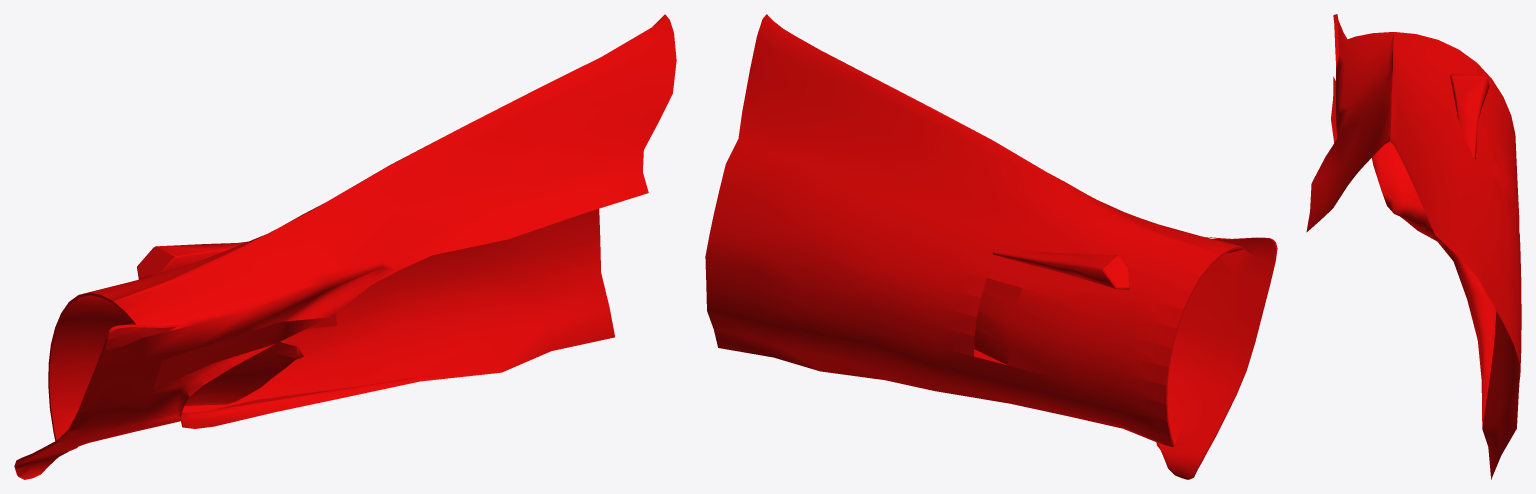
Rendered from rafale_highlight_06.fbx.
3 renders of one model, left to right at view 1: azimuth 30°, elevation 25°; view 2: azimuth 150°, elevation 25°; view 3: azimuth 270°, elevation 25°, orthographic. The views are drawn at different scales.
Parts seen in each view (by area): view 1: rafale_highlight_06; view 2: rafale_highlight_06; view 3: rafale_highlight_06.
Part boxes in pixels (left/top/right/bottom): rafale_highlight_06: left=14, top=14, right=676, bottom=479; rafale_highlight_06: left=705, top=14, right=1277, bottom=479; rafale_highlight_06: left=1306, top=14, right=1521, bottom=479.
Size of the model in its own units: 114 by 68.57 by 38.32.
